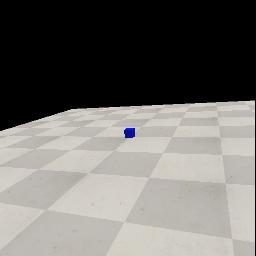box: (124, 128, 135, 138)
